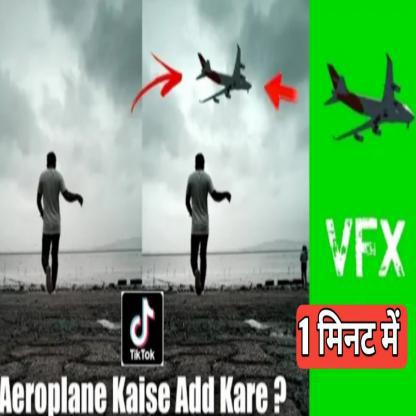CIV_Plane: (321, 48, 415, 148), (189, 41, 251, 111)
